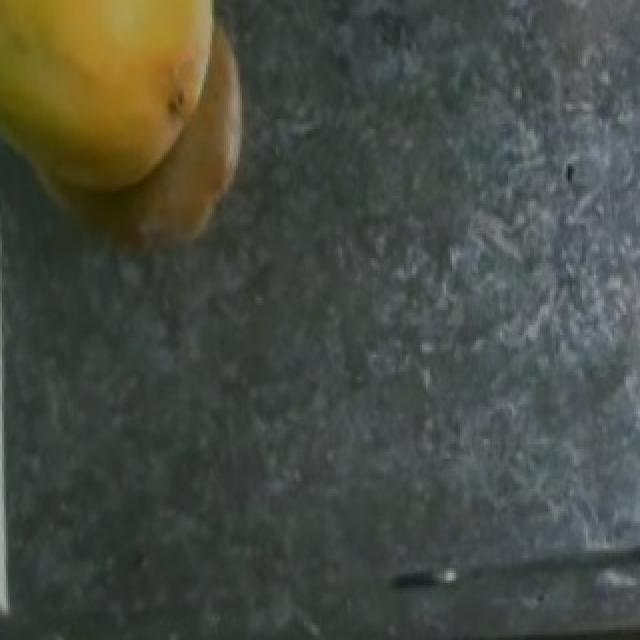fruit: (0, 0, 264, 221)
